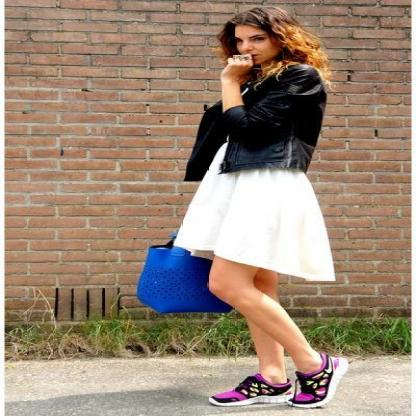bag: (137, 241, 233, 313)
dress: (174, 142, 334, 280)
jacket: (184, 66, 326, 181)
shoe: (237, 358, 332, 398)
